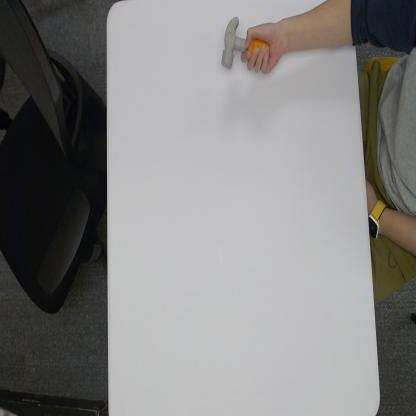Arm: (281, 0, 356, 54)
Hammer: (221, 15, 270, 71)
Hand: (243, 20, 280, 74)
